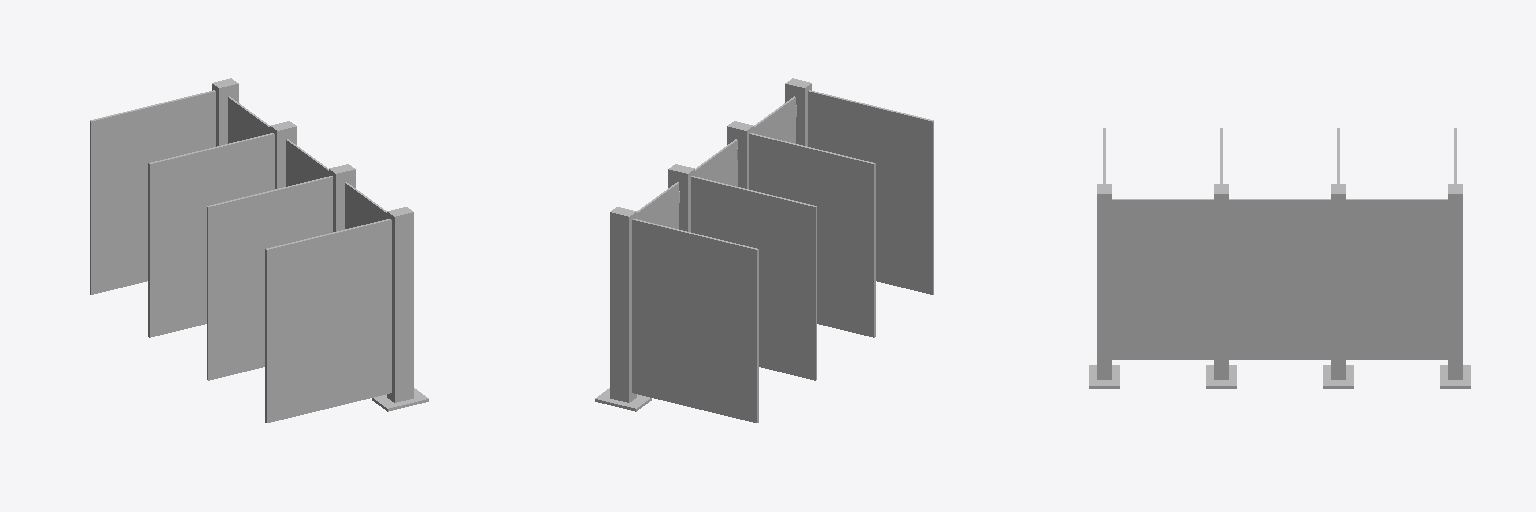
The model's file is Restroom_Cubicle.obj.
3 views of the same model, side by side, from view 1: azimuth 30°, elevation 25°; view 2: azimuth 150°, elevation 25°; view 3: azimuth 270°, elevation 25° (orthographic).
Parts seen in each view (by area): view 1: Cube.001, Cube.006, Cube.008, Cube.002, Cube.012; view 2: Cube.006, Cube.001, Cube.008, Cube.012, Cube.002; view 3: Cube.002, Cube.008, Cube.012, Cube.001, Cube.006.
Boxes of the visible parts, x1=… form: Cube.001: x1=207, y1=164, x2=428, y2=422; Cube.006: x1=90, y1=78, x2=296, y2=337; Cube.008: x1=286, y1=139, x2=328, y2=186; Cube.002: x1=345, y1=182, x2=386, y2=228; Cube.012: x1=228, y1=96, x2=269, y2=143; Cube.006: x1=595, y1=164, x2=816, y2=422; Cube.001: x1=727, y1=78, x2=933, y2=337; Cube.008: x1=695, y1=139, x2=737, y2=186; Cube.012: x1=637, y1=182, x2=678, y2=228; Cube.002: x1=754, y1=96, x2=795, y2=143; Cube.002: x1=1112, y1=199, x2=1213, y2=359; Cube.008: x1=1229, y1=199, x2=1330, y2=359; Cube.012: x1=1346, y1=199, x2=1447, y2=359; Cube.001: x1=1089, y1=128, x2=1236, y2=388; Cube.006: x1=1323, y1=128, x2=1470, y2=388.
Bounding box in the file's own units: 3.47 × 4.04 × 7.39.